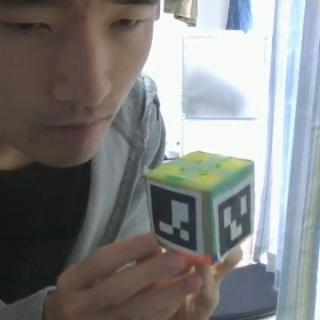armor: (148, 180, 202, 254), (216, 174, 254, 264)
robot: (146, 150, 258, 264)
